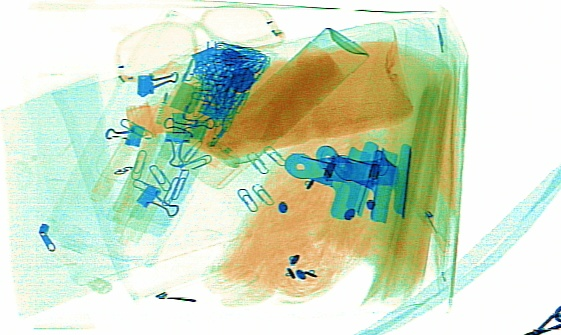pressure: (175, 25, 367, 190)
